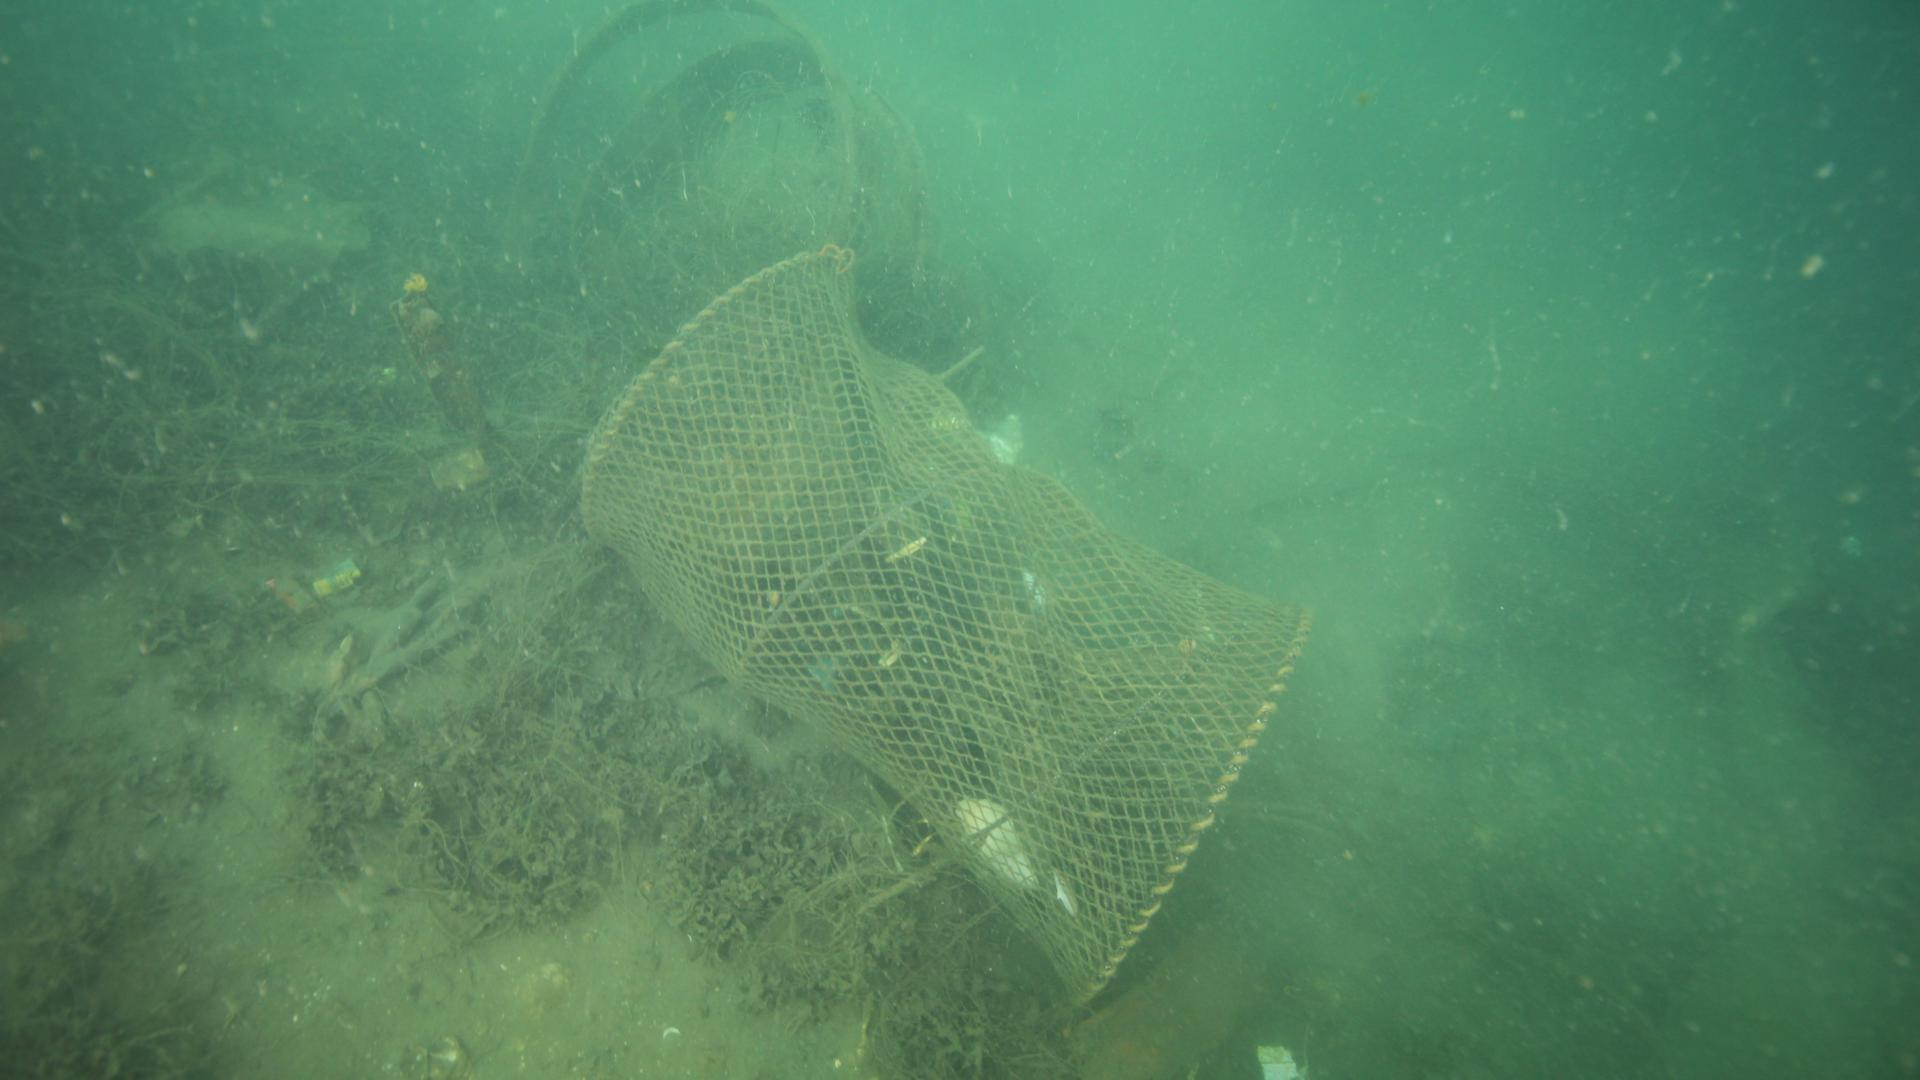spring fish trap: (563, 233, 1316, 1013)
